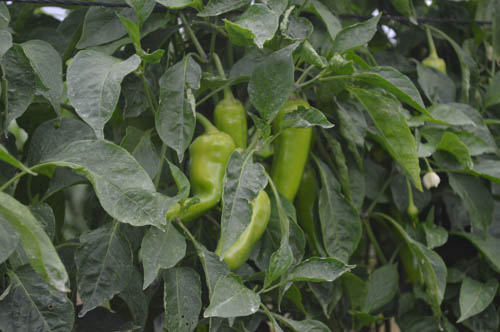ChiliPepper: (172, 134, 230, 224), (216, 191, 269, 279), (267, 104, 308, 204), (217, 102, 249, 162)
